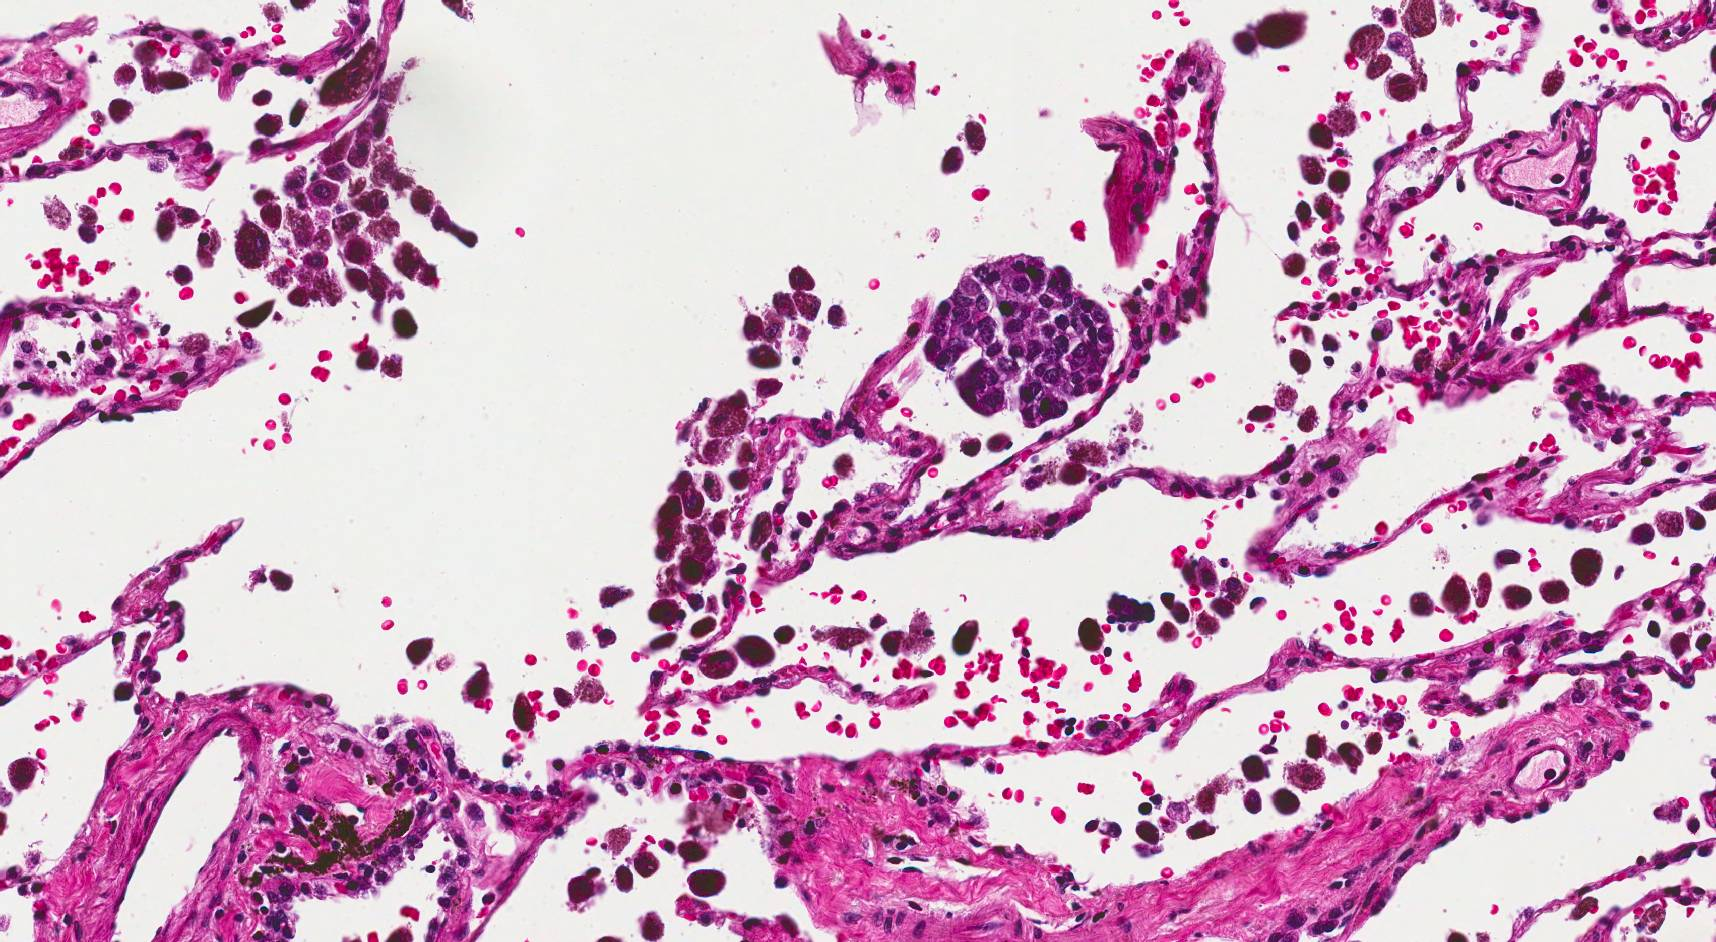stas: (923, 251, 1112, 429)
